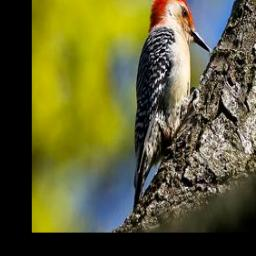Woodpecker: (133, 0, 214, 208)
